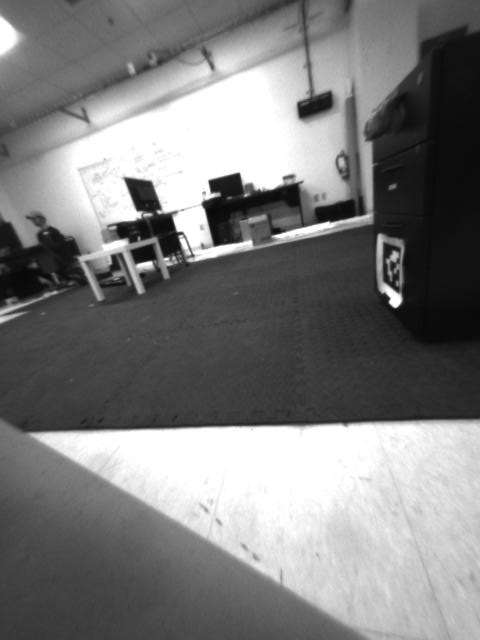drawer: (357, 97, 414, 142)
